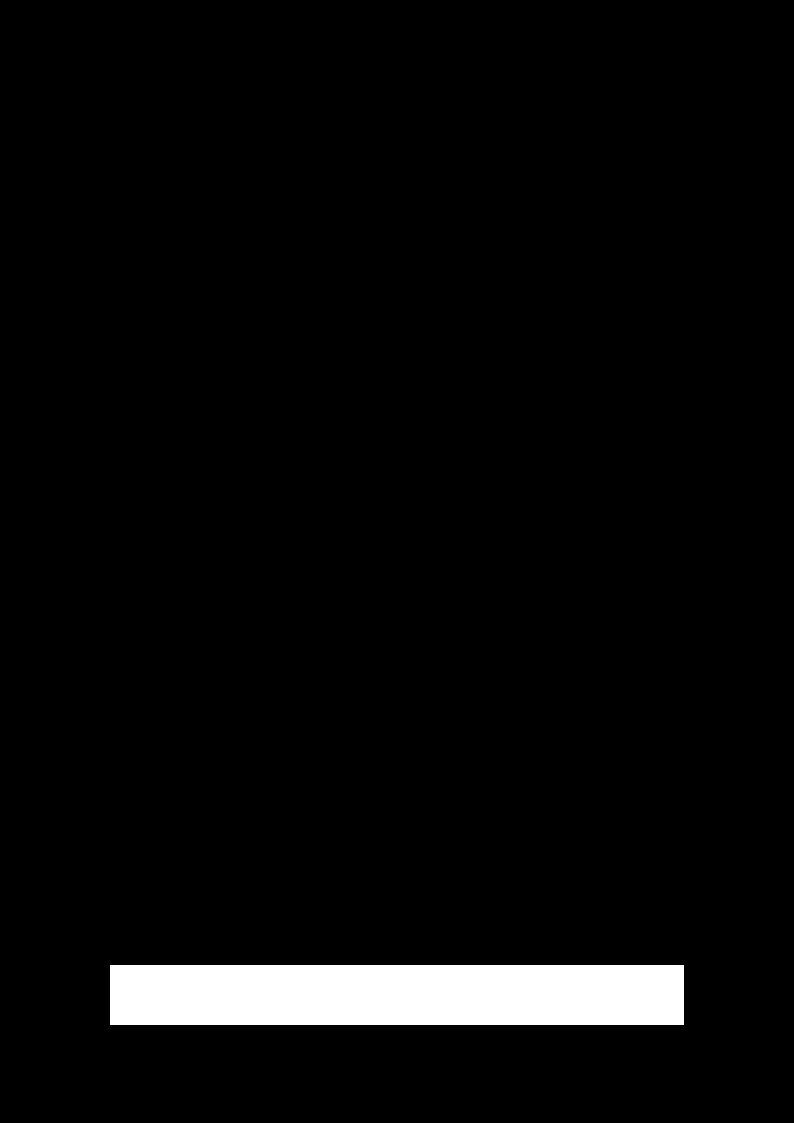table: (110, 965, 683, 1024)
